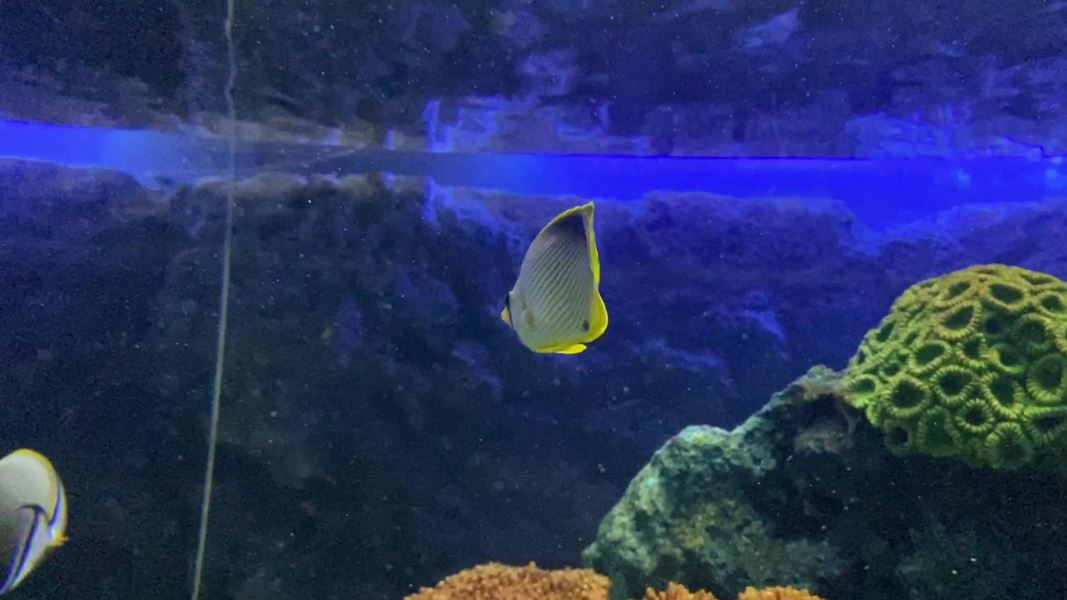Black-backed butterflyfish: (488, 191, 621, 367)
